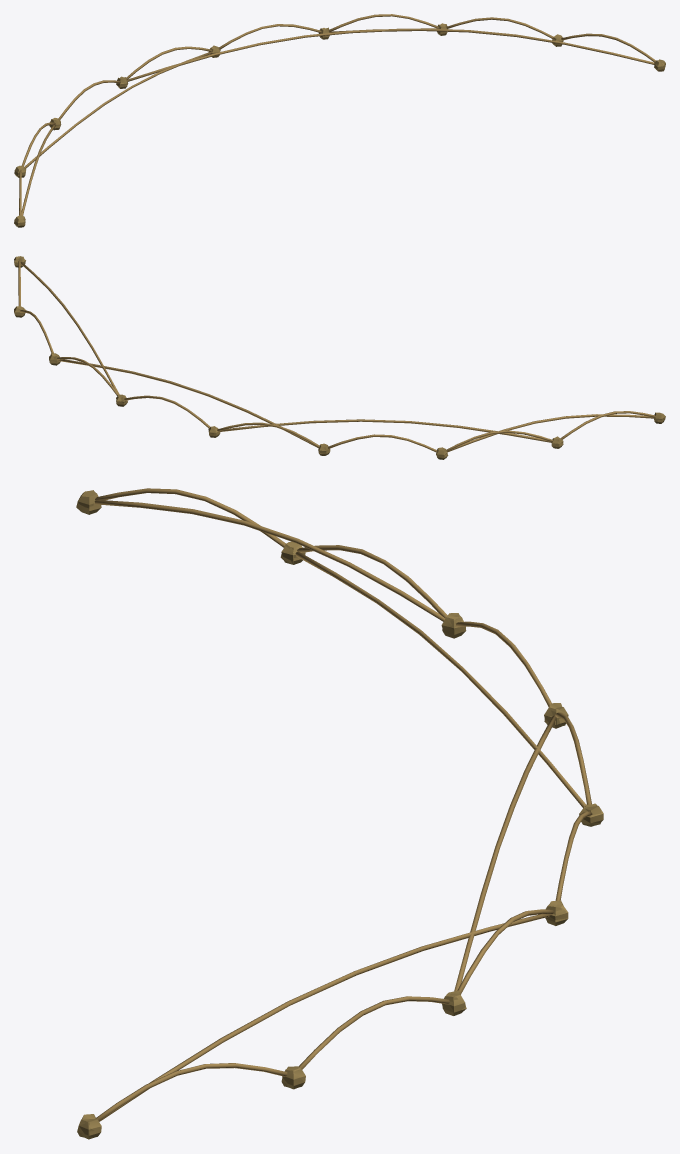
The model's file is relationship-filaments.desktop.glb.
3 views of the same model, one above another, from view 1: azimuth 30°, elevation 25°; view 2: azimuth 150°, elevation 25°; view 3: azimuth 270°, elevation 25° (orthographic). The views are drawn at different scales.
Parts seen in each view (by area): view 1: SA_A03_MESH_76, SA_A03_MESH_78, SA_A03_MESH_80, SA_A03_MESH_64, SA_A03_MESH_62; view 2: SA_A03_MESH_80, SA_A03_MESH_78, SA_A03_MESH_82, SA_A03_MESH_76, SA_A03_MESH_70, SA_A03_MESH_72, SA_A03_MESH_68, SA_A03_MESH_74; view 3: SA_A03_MESH_76, SA_A03_MESH_82, SA_A03_MESH_80, SA_A03_MESH_78, SA_A03_MESH_60, SA_A03_MESH_74, SA_A03_MESH_62.
Boxes of the visible parts, x1,y1,x2,y2 form: SA_A03_MESH_76: [329, 28, 654, 64]; SA_A03_MESH_78: [127, 28, 438, 81]; SA_A03_MESH_80: [24, 51, 212, 168]; SA_A03_MESH_64: [329, 14, 438, 31]; SA_A03_MESH_62: [446, 17, 553, 38]; SA_A03_MESH_80: [219, 419, 551, 442]; SA_A03_MESH_78: [58, 359, 318, 448]; SA_A03_MESH_82: [447, 414, 654, 451]; SA_A03_MESH_76: [20, 262, 119, 394]; SA_A03_MESH_70: [328, 434, 437, 452]; SA_A03_MESH_72: [446, 430, 552, 451]; SA_A03_MESH_68: [217, 422, 319, 447]; SA_A03_MESH_74: [560, 411, 655, 439]; SA_A03_MESH_76: [100, 914, 550, 1121]; SA_A03_MESH_82: [94, 500, 445, 621]; SA_A03_MESH_80: [295, 551, 586, 807]; SA_A03_MESH_78: [454, 715, 556, 991]; SA_A03_MESH_60: [96, 1063, 287, 1121]; SA_A03_MESH_74: [95, 488, 285, 547]; SA_A03_MESH_62: [299, 996, 449, 1069].
Bounding box in the file's own units: 6.8 × 0.215 × 2.39.
